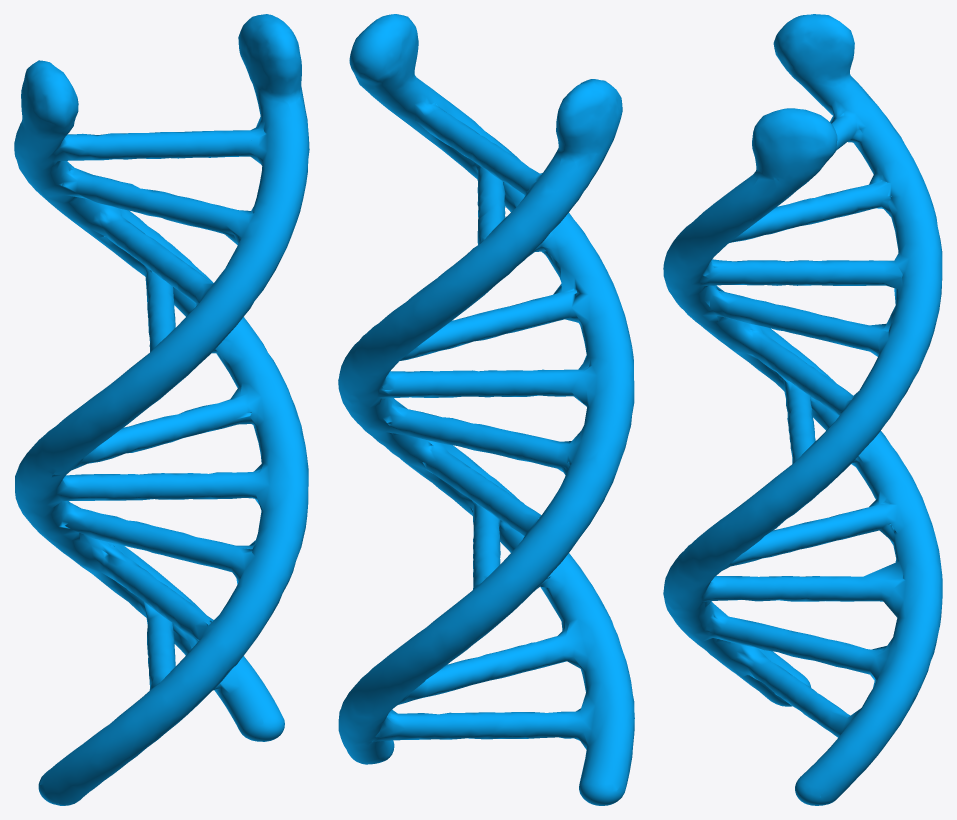
File: first anim.FBX
3 views of the same model, side by side, from view 1: azimuth 30°, elevation 25°; view 2: azimuth 150°, elevation 25°; view 3: azimuth 270°, elevation 25° (orthographic). The views are drawn at different scales.
Visible parts, largest first — view 1: MeshBody1; view 2: MeshBody1; view 3: MeshBody1.
Boxes of the visible parts, x1,y1,x2,y2 form: MeshBody1: (14, 14, 309, 805); MeshBody1: (338, 14, 634, 805); MeshBody1: (663, 14, 942, 805).
Size of the model in its own units: 16.17 by 43.38 by 15.92.
